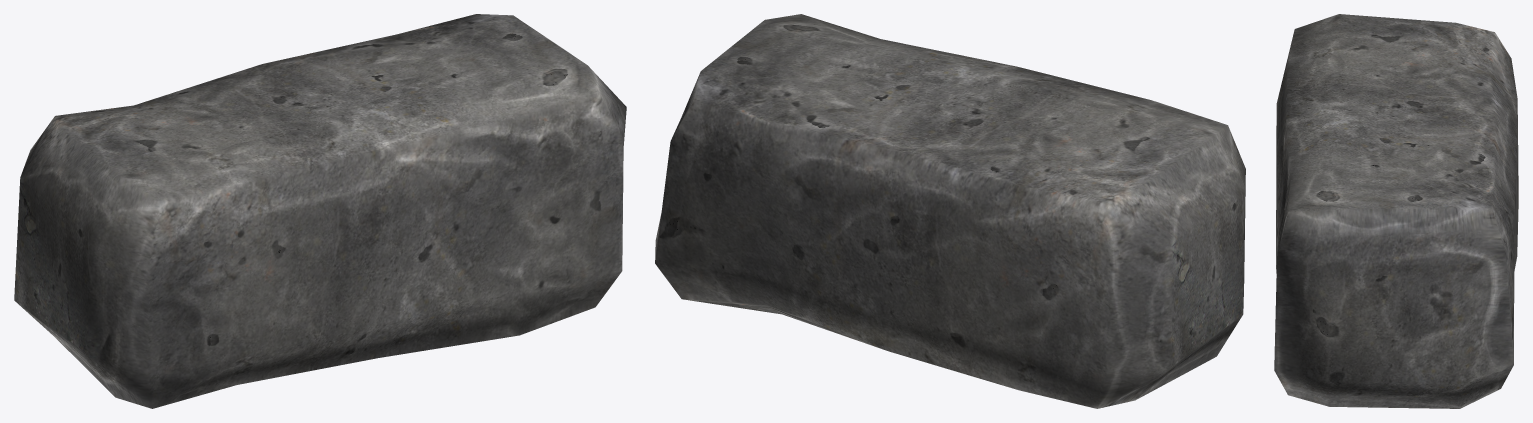
Rendered from Block.fbx.
3 views of the same model, side by side, from view 1: azimuth 30°, elevation 25°; view 2: azimuth 150°, elevation 25°; view 3: azimuth 270°, elevation 25° (orthographic). The views are drawn at different scales.
Parts seen in each view (by area): view 1: RetopoGroup1; view 2: RetopoGroup1; view 3: RetopoGroup1.
Part boxes in pixels (x1,y1,x2,y2): RetopoGroup1: (14, 14, 626, 408); RetopoGroup1: (655, 14, 1245, 408); RetopoGroup1: (1274, 14, 1518, 408).
Bounding box in the file's own units: 243 × 101 × 111.
